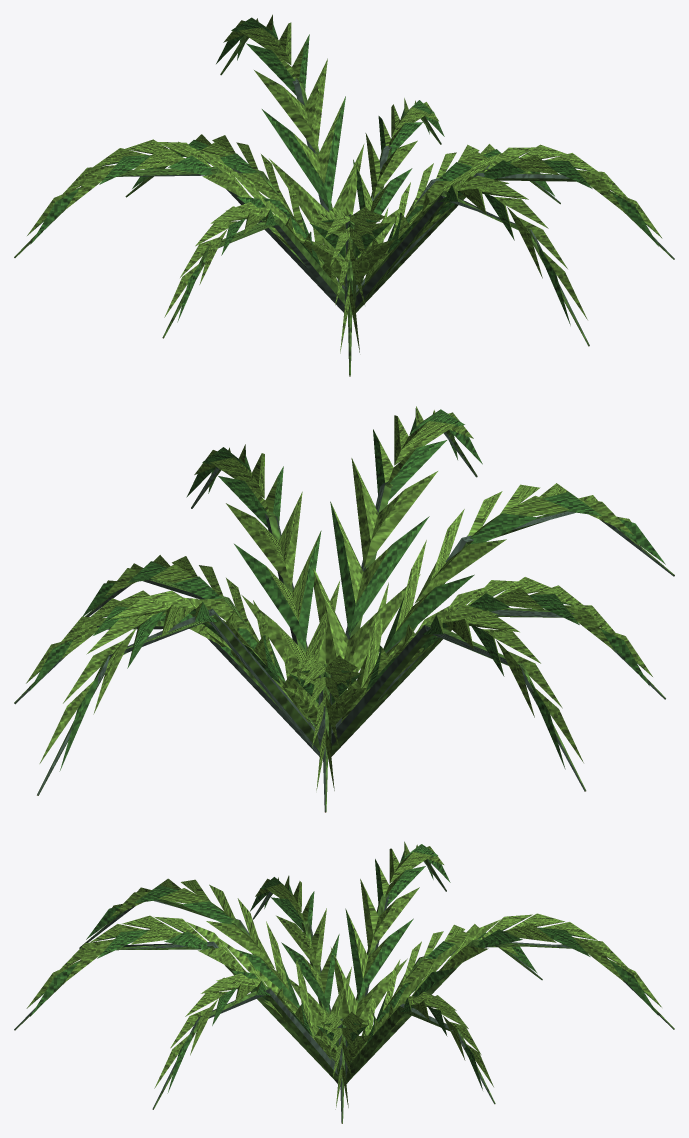
Rendered from SM_Woodland_Fern.fbx.
The picture shows the model from 3 angles, top to bottom: view 1: azimuth 30°, elevation 25°; view 2: azimuth 150°, elevation 25°; view 3: azimuth 270°, elevation 25°; orthographic projection. The views are drawn at different scales.
Parts seen in each view (by area): view 1: SM_Woodland_Fern; view 2: SM_Woodland_Fern; view 3: SM_Woodland_Fern.
Boxes of the visible parts, box(x1,y1,x2,y2) form: SM_Woodland_Fern: box(14, 14, 674, 376); SM_Woodland_Fern: box(14, 406, 674, 812); SM_Woodland_Fern: box(14, 841, 674, 1123).
Size of the model in its own units: 131 by 169 by 50.85.
1 material, 1 textured.
